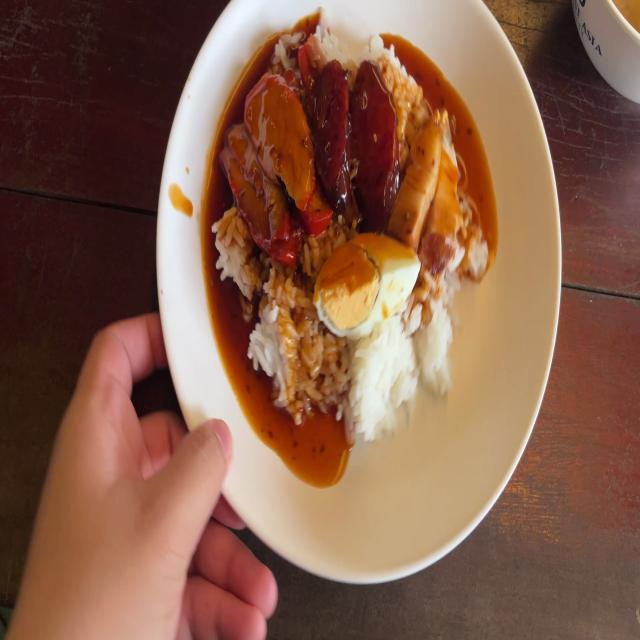01boiled_egg: (309, 236, 411, 330)
01chainese_sausage: (312, 59, 397, 220)
01crispy_pork: (395, 111, 457, 265)
01red_pork: (222, 79, 314, 248)
01red_pork_and_crispy_pork: (210, 11, 490, 437)
01rice: (239, 269, 311, 415), (320, 330, 411, 432), (410, 278, 448, 393), (214, 212, 254, 303)
